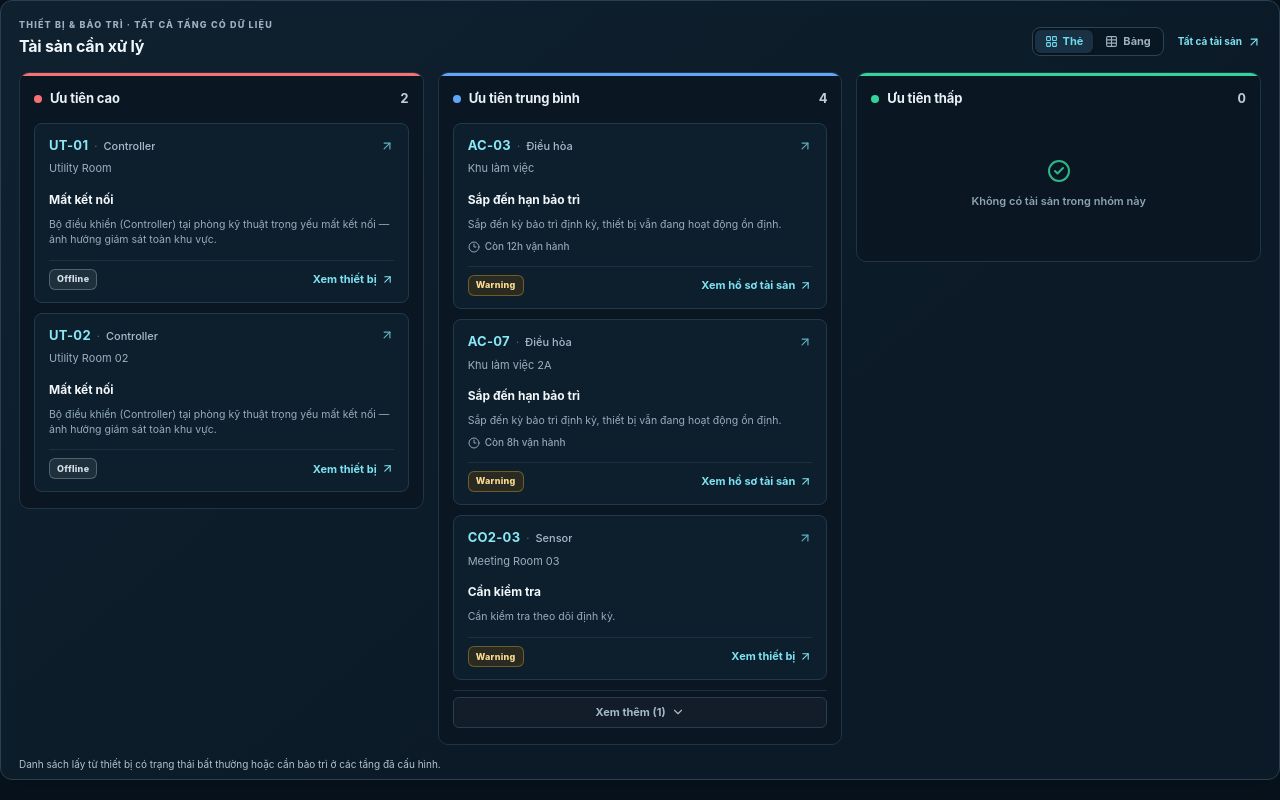
it: AssetExceptionsSection › opens AssetDetailDrawer when a card is clicked, and closes when close button is clicked
Click the button "AC-03".
click(640, 216)  # box [453,123,827,309]
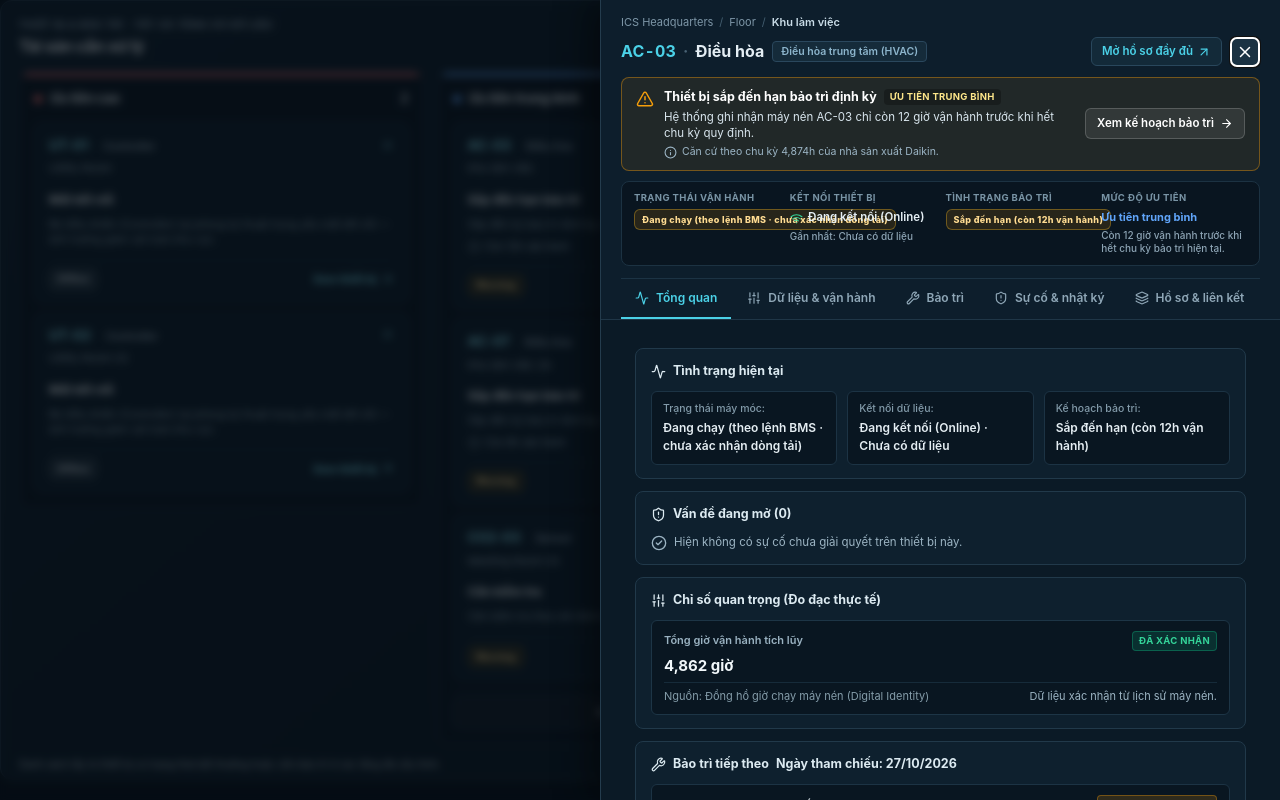
Check: the dialog is shown, box [600,0,1279,799]
# Close the drawer
Click the button named "Đóng bảng chi tiết tài sản".
click(1245, 52)  # box [1230,36,1260,66]
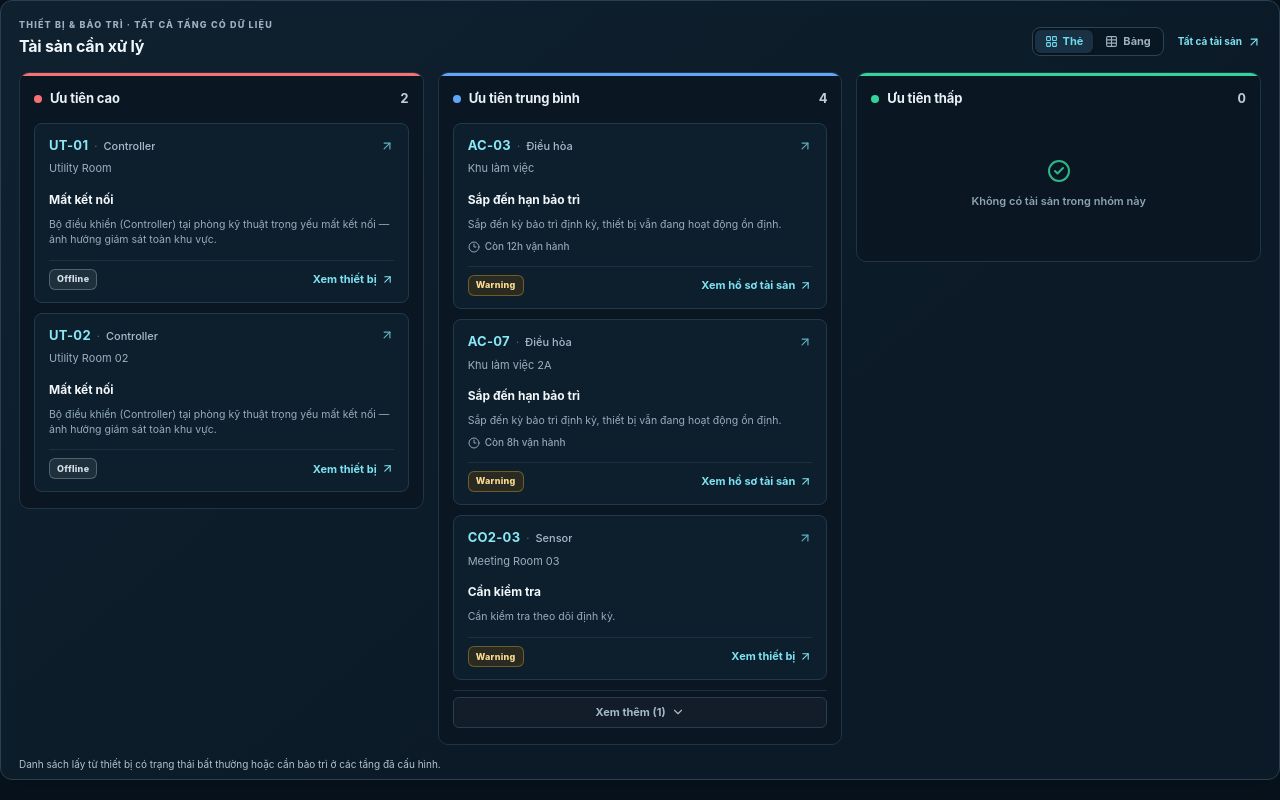
Check: the dialog is gone
